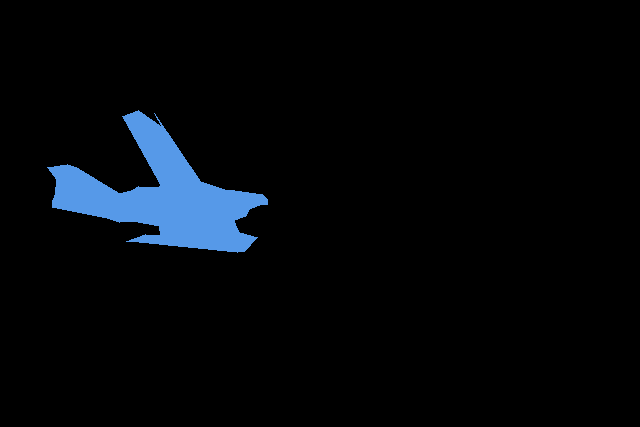Airplane: (47, 110, 268, 253)
